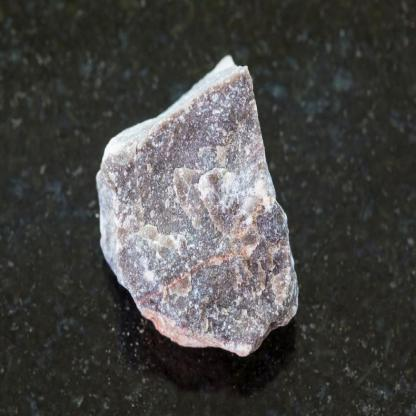Sedimentary_Limestone: (88, 46, 308, 368)
